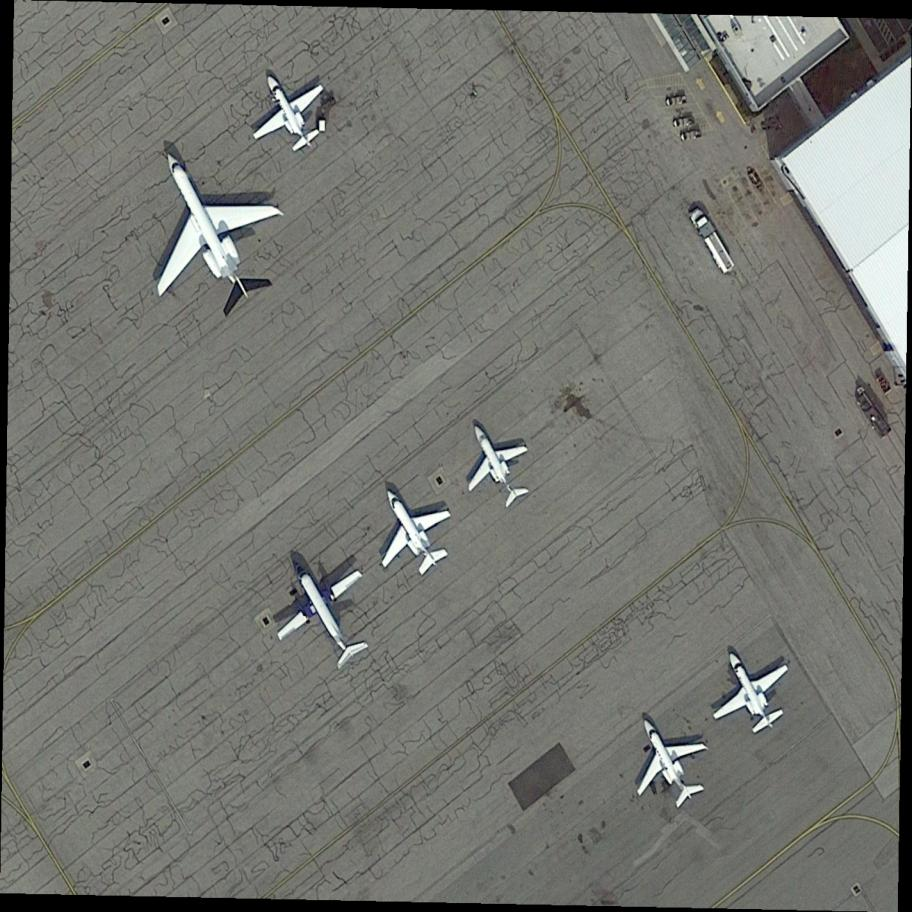large-vehicle: (685, 204, 739, 277), (848, 382, 898, 446)
plane: (99, 110, 318, 347), (245, 525, 399, 693), (678, 625, 821, 762), (593, 689, 726, 829), (347, 462, 478, 596), (431, 402, 555, 539), (225, 50, 357, 178)
small-vehicle: (743, 163, 767, 194), (678, 128, 704, 142), (664, 94, 690, 108), (671, 116, 699, 128)
